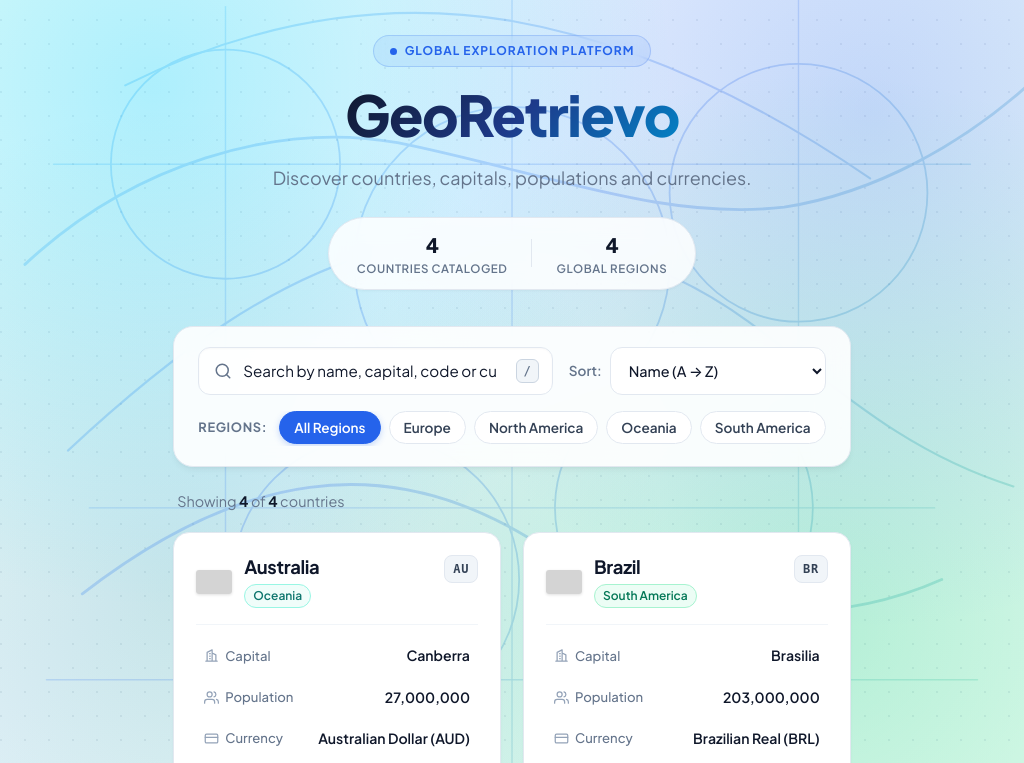
App › filters countries by region and search, resets filters, sorts results, and opens details
Click the button "South America" at (763, 427), box [700,411,826,444]
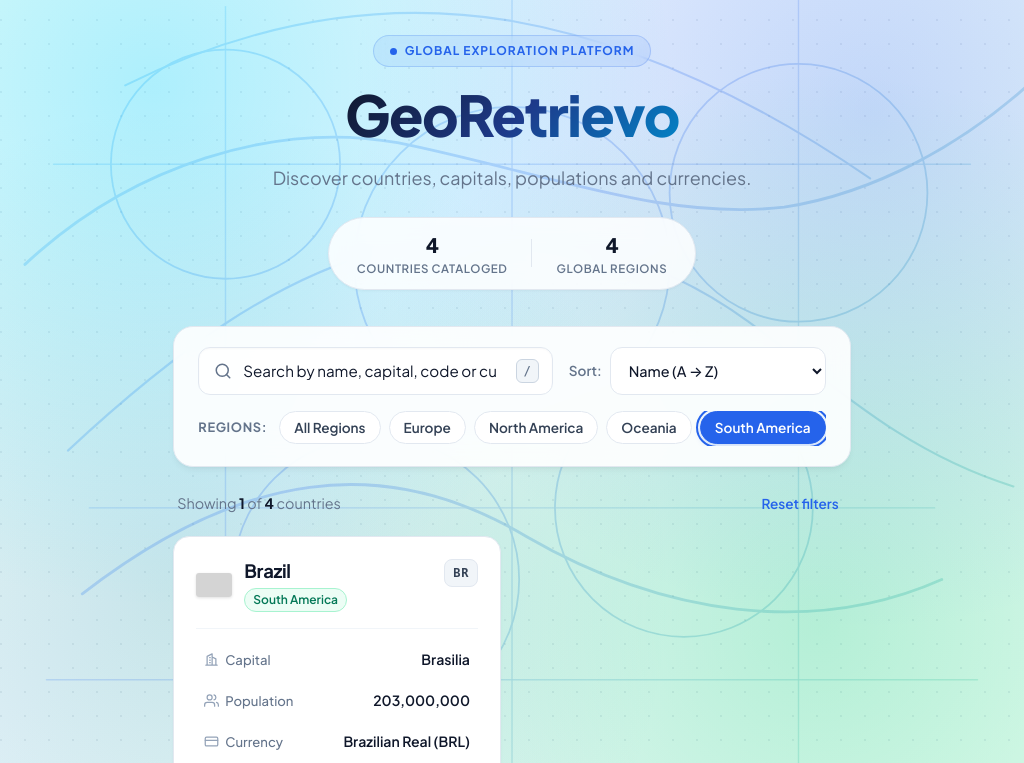
Now the element showing "Showing 1 of 4 countries" is shown, box [177,492,341,514]
Type "brazil" into the search field named "Search countries" at (376, 371), box [198,347,553,395]
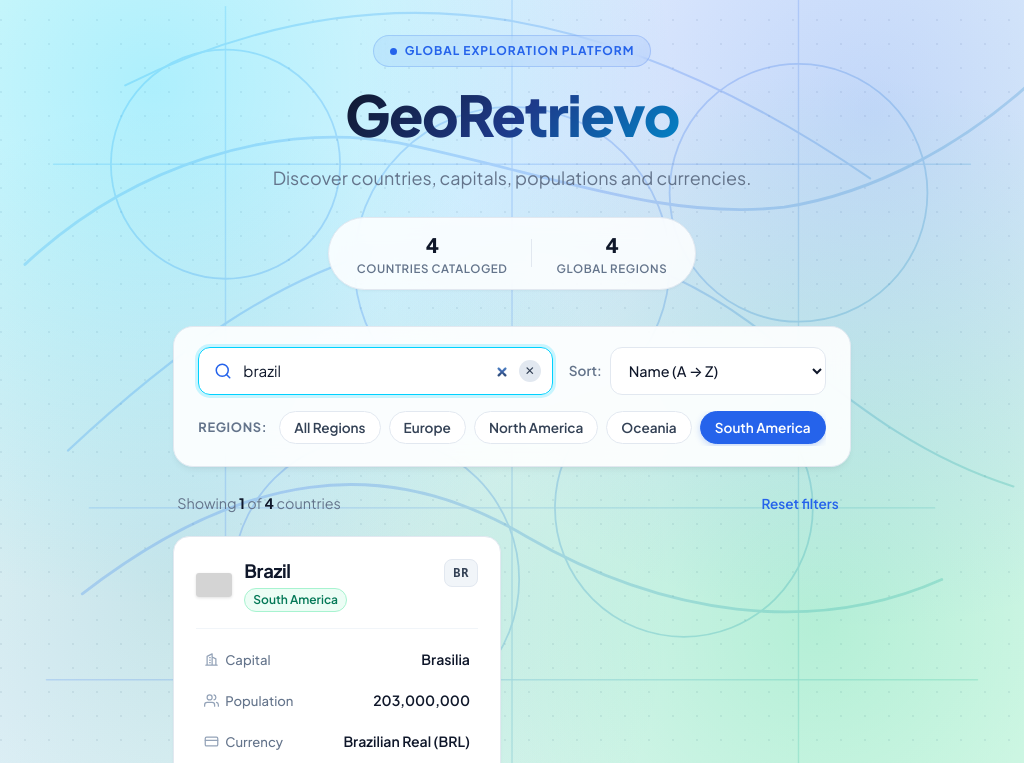
Click the button "Reset filters" at (800, 503), box [754,491,847,516]
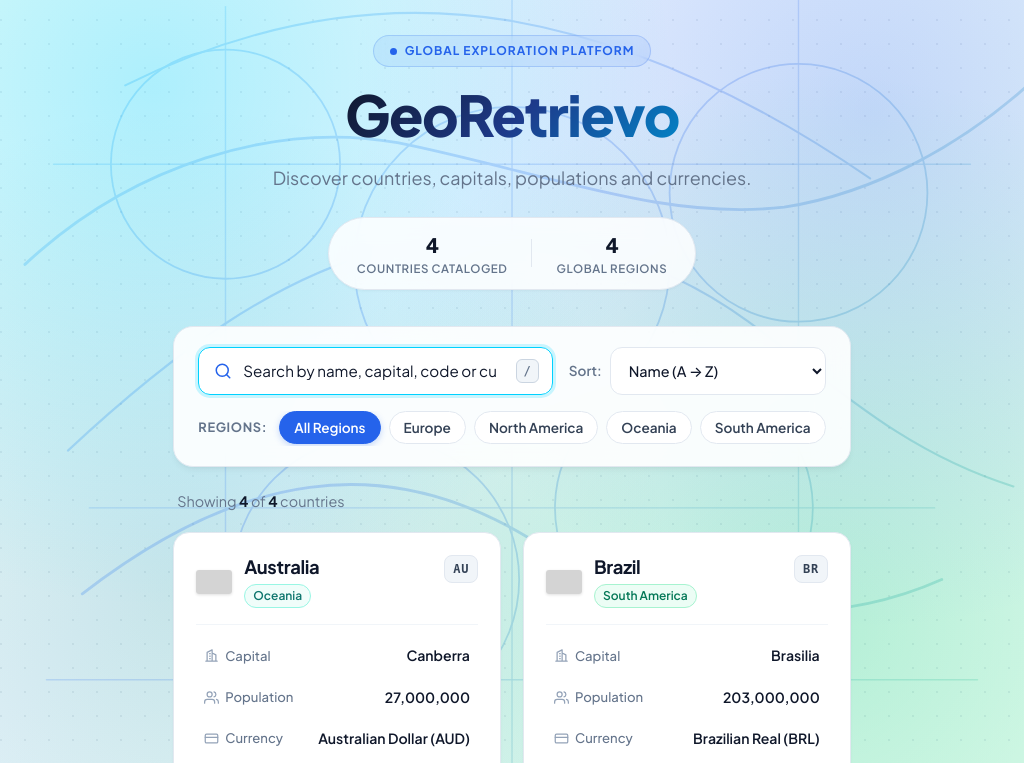
Now the search field named "Search countries" is empty, box [198,347,553,395]
Select "Population (High → Low)" in the dropdown named "Sort countries by" at (718, 371), box [610,347,826,395]
(page scrolled)
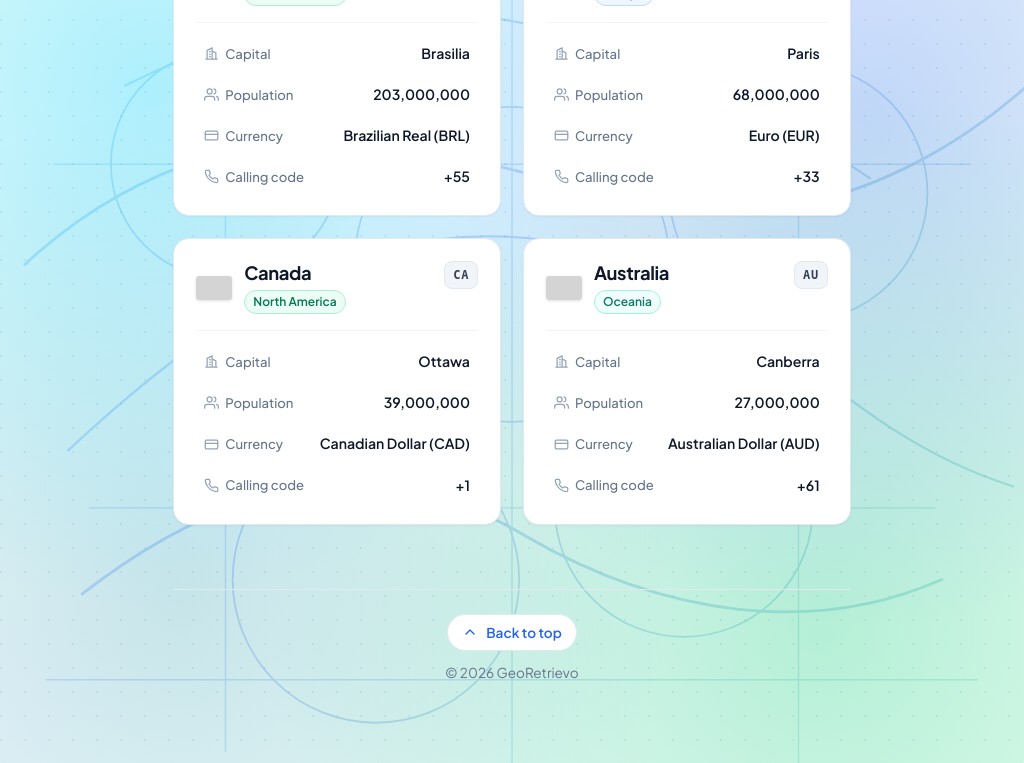
Click the button with aria-label "View details for Canada" at (337, 382), box [173,238,501,525]
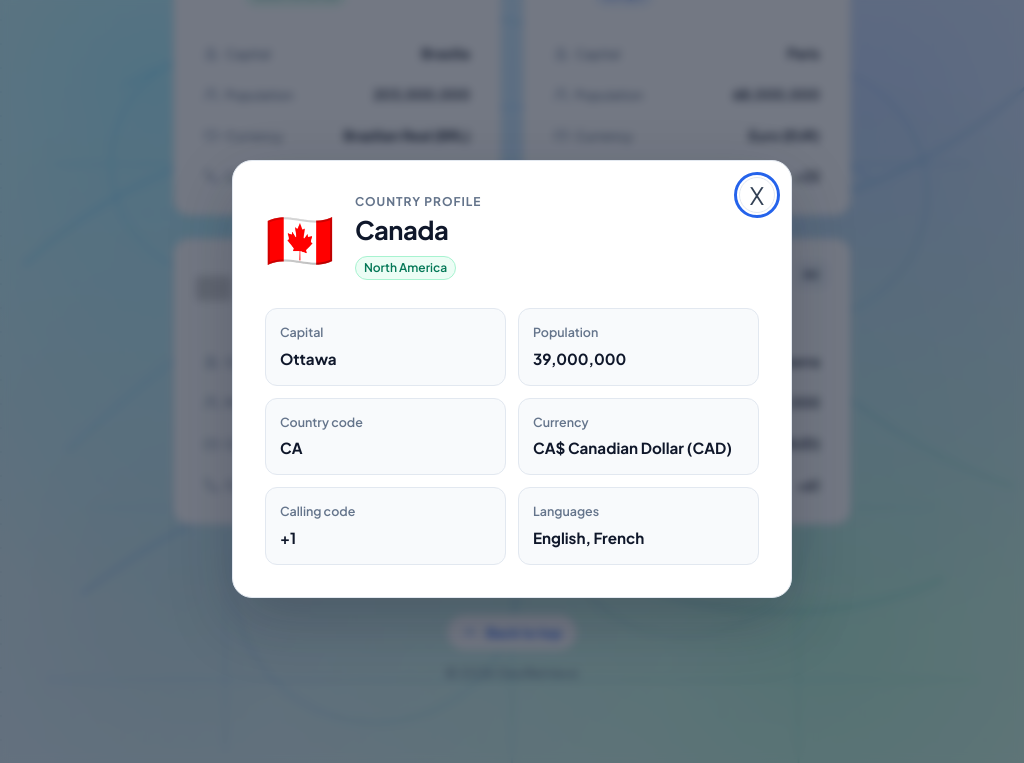
Now the dialog "Canada" is shown, box [232,160,792,598]
Now the text "Ottawa" is shown, box [280,349,337,368]
